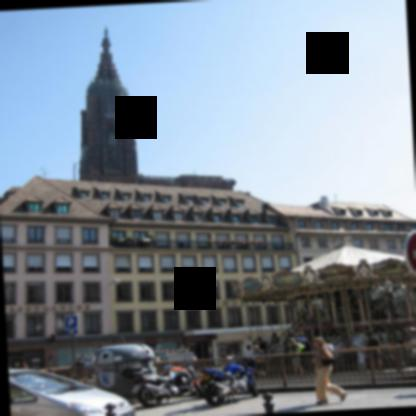handbag: (320, 358, 336, 367)
